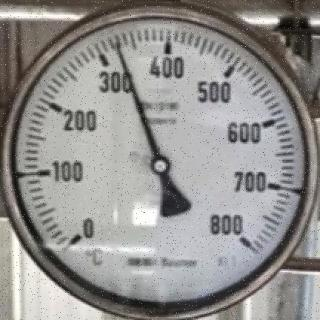gauge: (3, 1, 320, 320), (212, 214, 260, 262), (57, 216, 98, 257), (148, 155, 171, 177), (113, 36, 125, 54)
